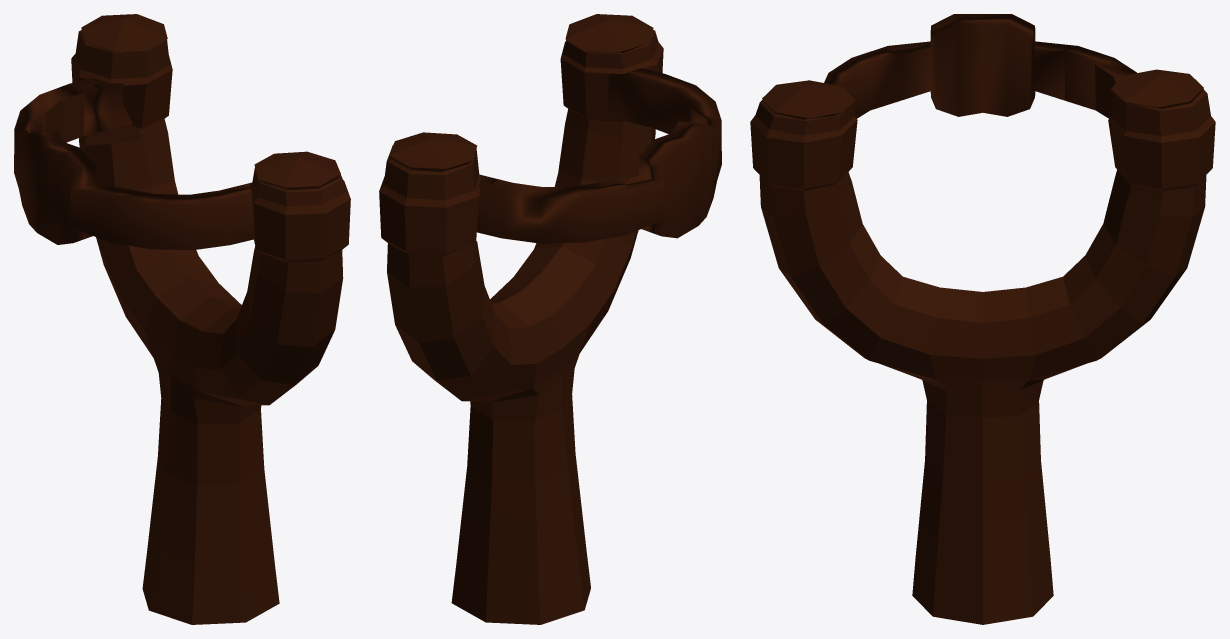
The model's file is Slingshot.obj.
The picture shows the model from 3 angles, left to right: view 1: azimuth 30°, elevation 25°; view 2: azimuth 150°, elevation 25°; view 3: azimuth 270°, elevation 25°; orthographic projection.
Visible parts, largest first — view 1: slingShotMeshOutline; view 2: slingShotMeshOutline; view 3: slingShotMeshOutline.
Part boxes in pixels (box(x1,y1,x2,y2)): slingShotMeshOutline: box(14, 14, 350, 624); slingShotMeshOutline: box(379, 14, 721, 624); slingShotMeshOutline: box(750, 14, 1215, 624).
Bounding box in the file's own units: 4.48 × 9.33 × 7.54.
Materials: 1 (1 with a texture image).
